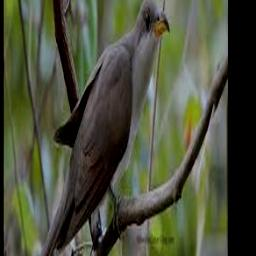Cuckoo: (40, 0, 169, 256)
